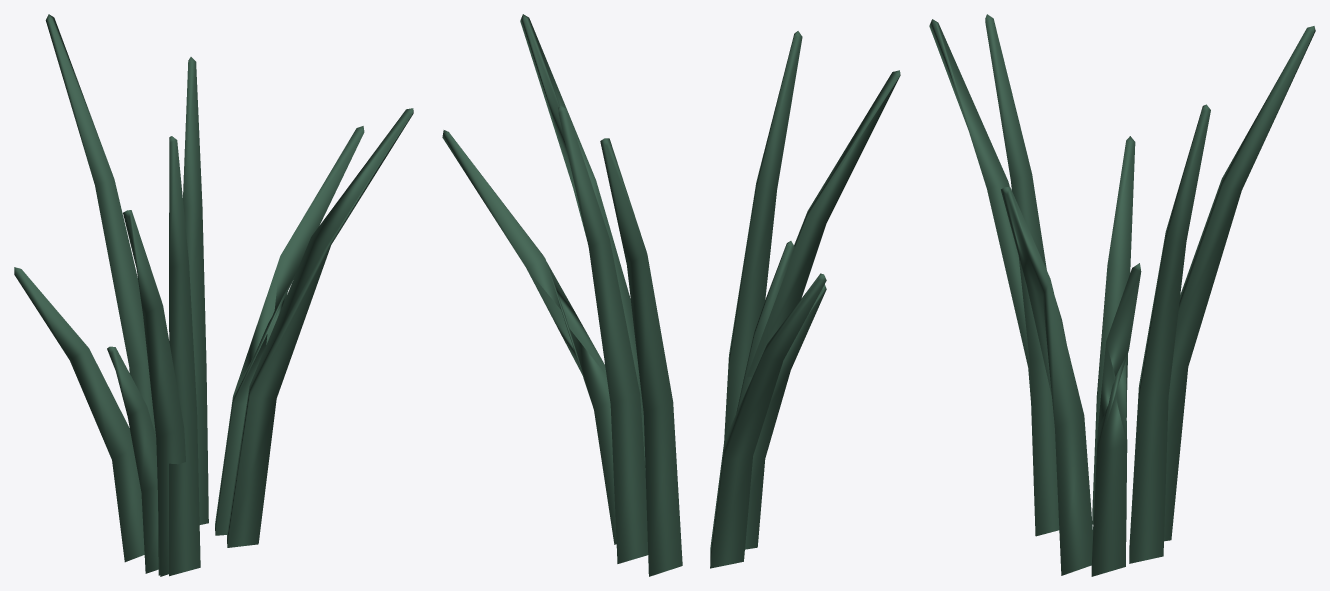
The model's file is grass_tuft.glb.
The picture shows the model from 3 angles, left to right: view 1: azimuth 30°, elevation 25°; view 2: azimuth 150°, elevation 25°; view 3: azimuth 270°, elevation 25°; orthographic projection. The views are drawn at different scales.
Visible parts, largest first — view 1: GrassTuft; view 2: GrassTuft; view 3: GrassTuft.
Part boxes in pixels (x1,y1,x2,y2): GrassTuft: [14, 14, 413, 576]; GrassTuft: [442, 14, 900, 576]; GrassTuft: [929, 14, 1315, 576].
Size of the model in its own units: 0.0772 by 0.0972 by 0.0678.
